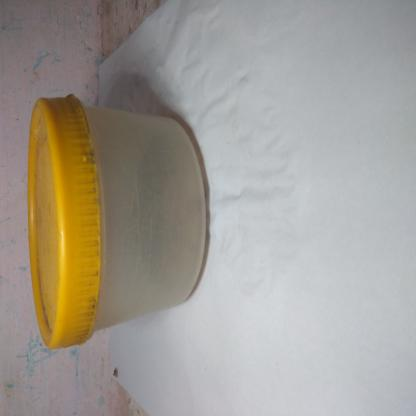bottle: (49, 35, 244, 282)
